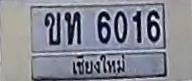0: (113, 10, 126, 42)
1: (132, 10, 141, 42)
6: (97, 10, 110, 43), (146, 9, 159, 41)
A02: (44, 11, 60, 44)
A23: (64, 11, 80, 44)
CMI: (69, 53, 127, 77)
